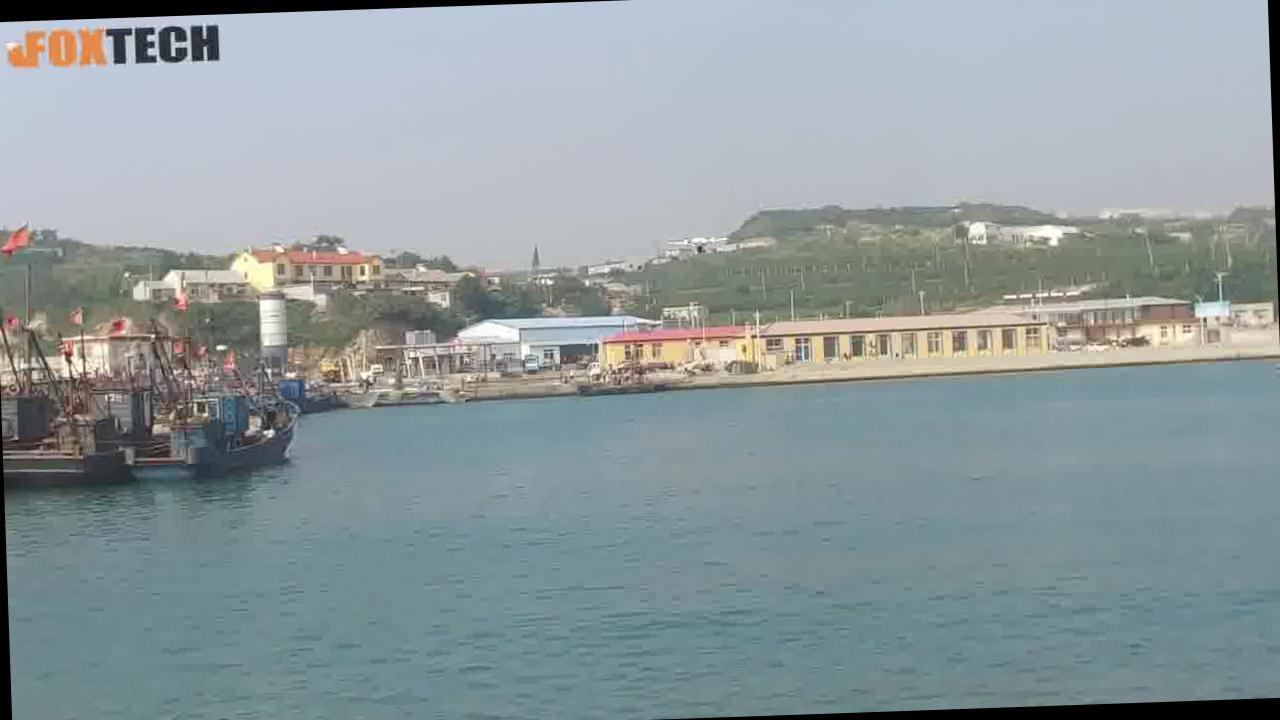drone: (666, 231, 732, 260)
